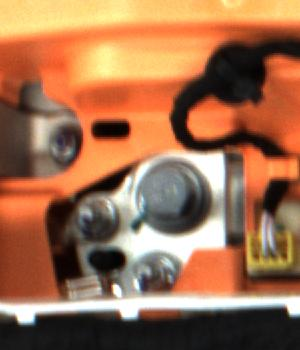nut_b: (125, 151, 212, 240)
